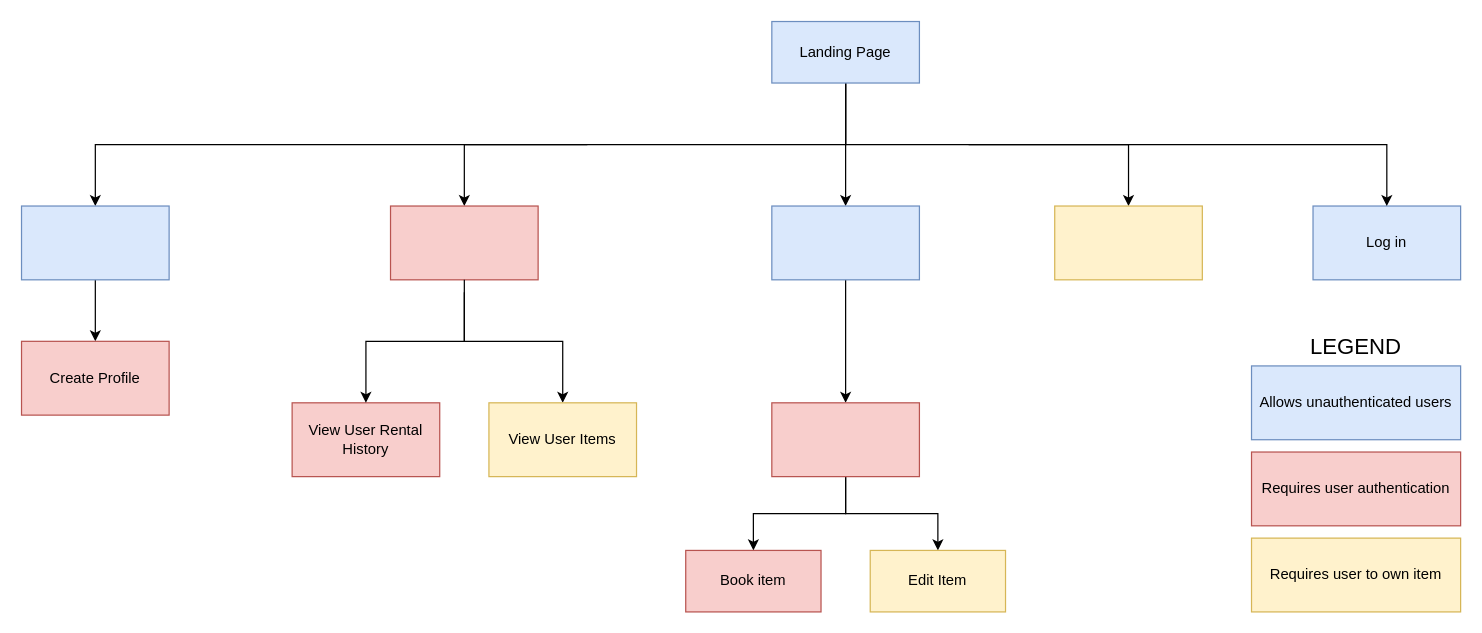
This 1482x633 diagram has some shape labels left out. The centre of each missing label's shape, as x and y in pixels:
"Add item listing" goes at (1127,242).
"Pesonal Profile" goes at (463,242).
"Sign Up" goes at (94,242).
"View all items" goes at (845,242).
"View single item" goes at (845,439).
